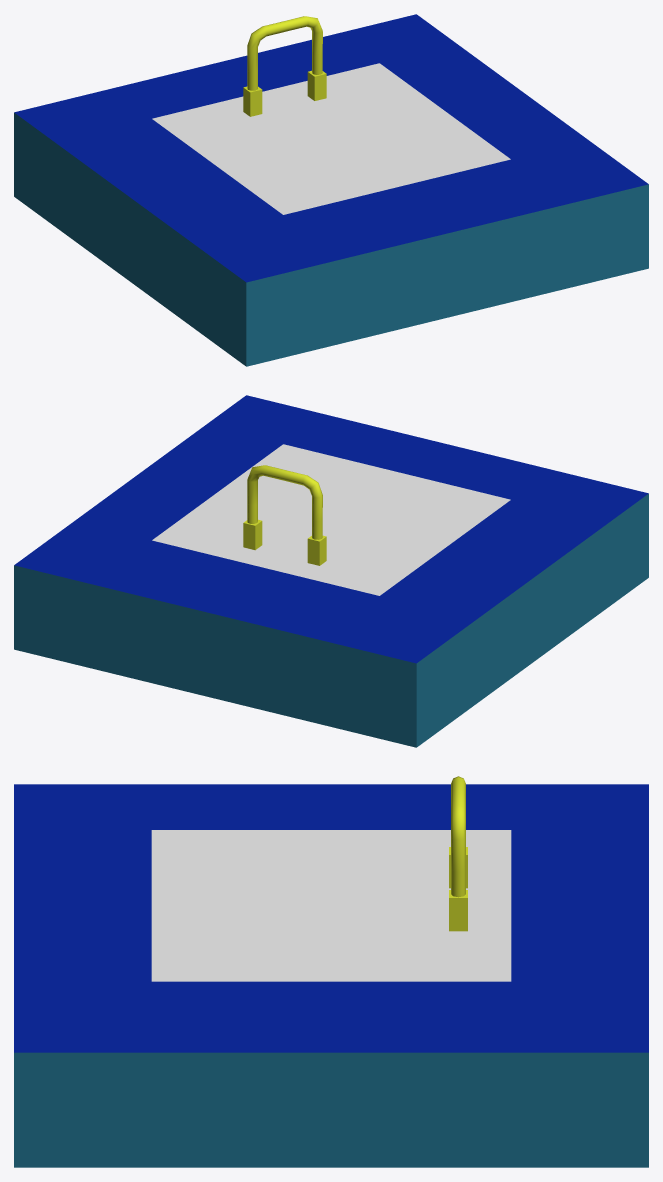
The model's file is arcade_tile_trap_ddr.fbx.
3 renders of one model, top to bottom at view 1: azimuth 30°, elevation 25°; view 2: azimuth 150°, elevation 25°; view 3: azimuth 270°, elevation 25°, orthographic. The views are drawn at different scales.
Parts seen in each view (by area): view 1: tile_floor004, Plane002, ddr_platform; view 2: tile_floor004, Plane002, ddr_platform; view 3: tile_floor004, Plane002, ddr_platform.
Part boxes in pixels (box(x1,y1,x2,y2)): tile_floor004: box(14, 14, 648, 366); Plane002: box(152, 63, 510, 214); ddr_platform: box(243, 16, 326, 116); tile_floor004: box(14, 395, 648, 747); Plane002: box(152, 444, 510, 595); ddr_platform: box(243, 465, 326, 565); tile_floor004: box(14, 784, 648, 1167); Plane002: box(151, 830, 511, 981); ddr_platform: box(449, 776, 467, 931).
Size of the model in its own units: 5 by 2.1 by 5.
